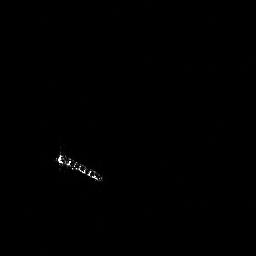ship: (51, 148, 106, 186)
